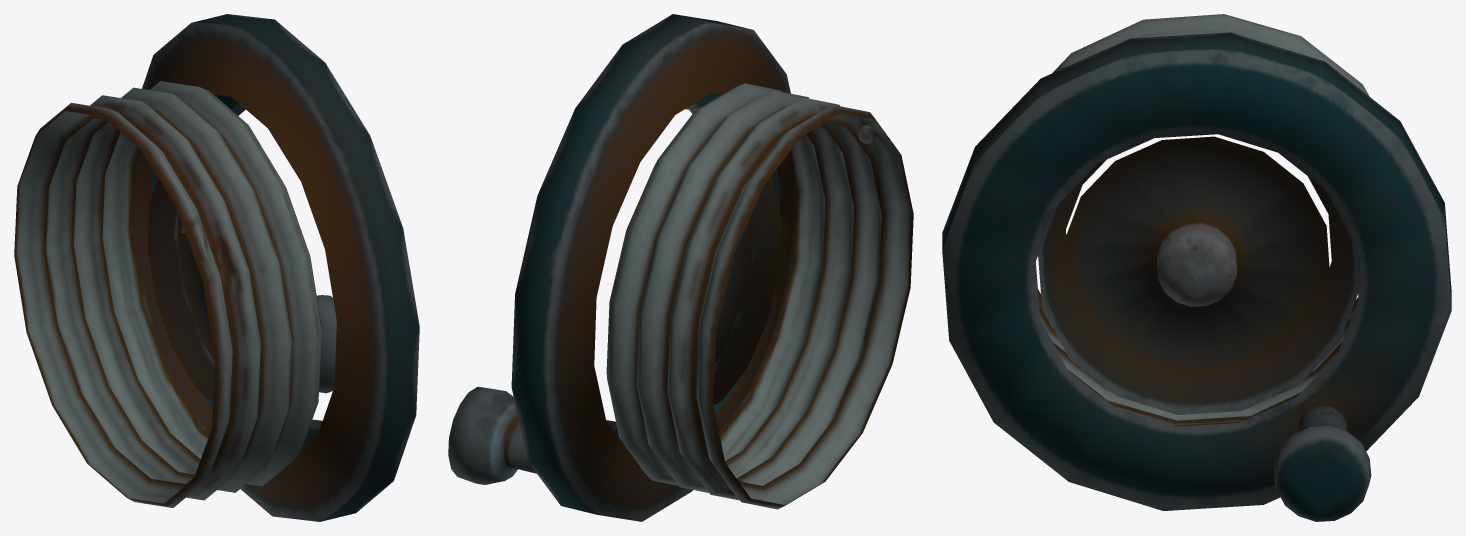
The model's file is reel.fbx.
The picture shows the model from 3 angles, left to right: view 1: azimuth 30°, elevation 25°; view 2: azimuth 150°, elevation 25°; view 3: azimuth 270°, elevation 25°; orthographic projection.
Parts seen in each view (by area): view 1: spining01.001; view 2: spining01.001; view 3: spining01.001.
Part boxes in pixels (<box>): spining01.001: <box>14,14,419,521</box>; spining01.001: <box>448,14,913,521</box>; spining01.001: <box>942,14,1451,521</box>.
Bounding box in the file's own units: 5.68 × 8.82 × 8.83.
1 material, 1 textured.
